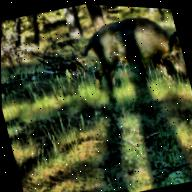boar: (74, 9, 192, 114)
